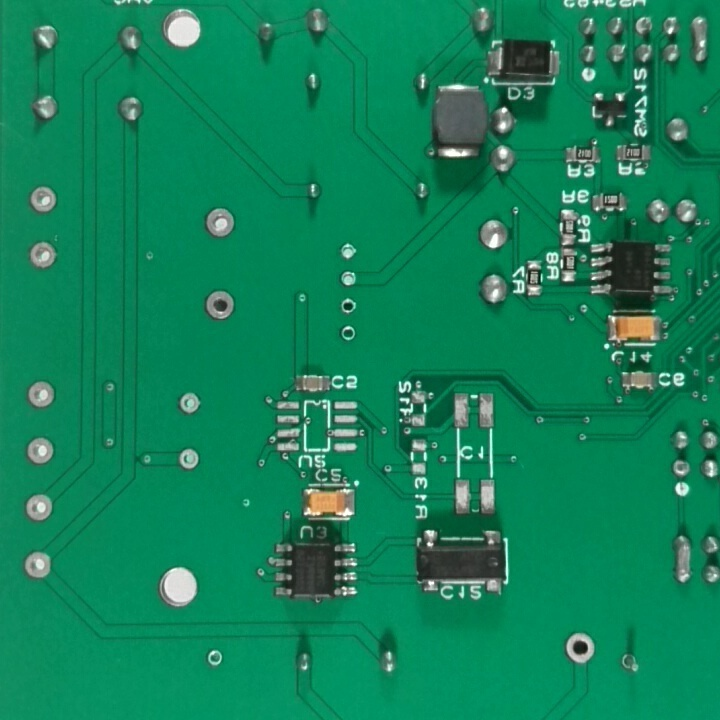F: (200, 203, 239, 246), (21, 377, 60, 416), (562, 628, 599, 667), (20, 435, 58, 472), (17, 546, 56, 582), (202, 289, 237, 327), (28, 184, 61, 222), (22, 492, 57, 526), (24, 239, 59, 271), (174, 443, 204, 473), (175, 389, 204, 420), (616, 648, 642, 679), (336, 263, 360, 293), (670, 454, 693, 484), (633, 12, 656, 39), (337, 320, 359, 347), (203, 646, 227, 670), (336, 238, 360, 260), (337, 295, 359, 318)
P: (671, 523, 697, 590), (688, 13, 714, 72)
